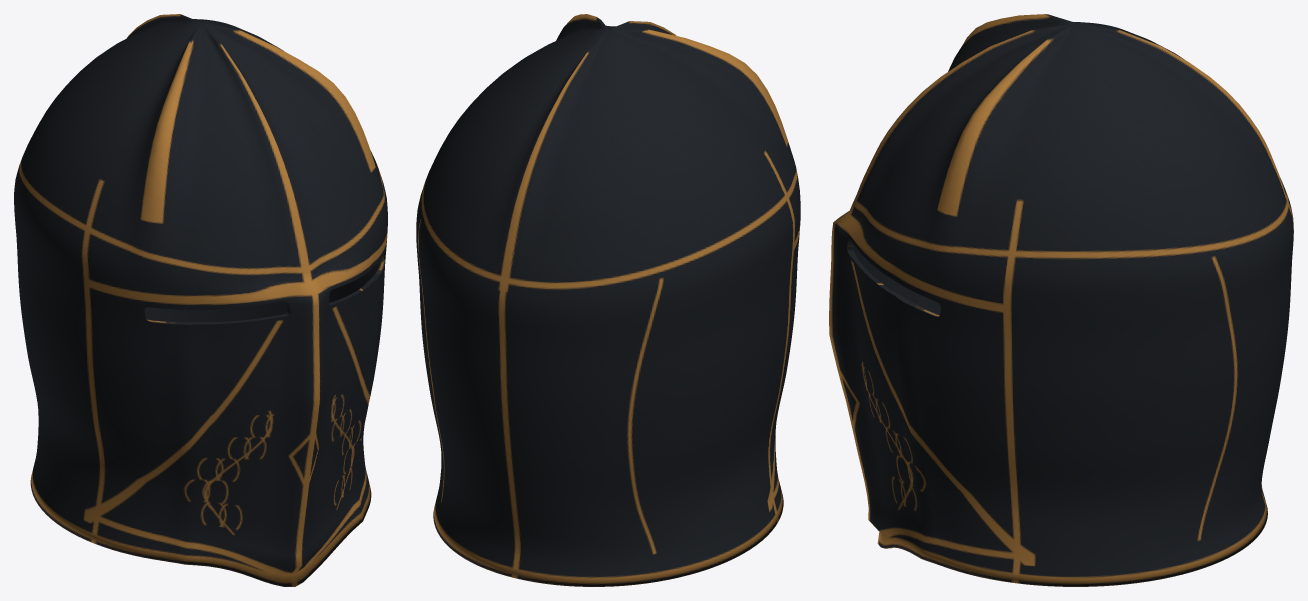
File: Obsidian_Sovereign_Helmet_preview_2K.glb
3 renders of one model, left to right at view 1: azimuth 30°, elevation 25°; view 2: azimuth 150°, elevation 25°; view 3: azimuth 270°, elevation 25°, orthographic. The views are drawn at different scales.
Visible parts, largest first — view 1: SM_ObsidianSovereign_Helmet_LOD0; view 2: SM_ObsidianSovereign_Helmet_LOD0; view 3: SM_ObsidianSovereign_Helmet_LOD0.
Boxes of the visible parts, x1=… form: SM_ObsidianSovereign_Helmet_LOD0: x1=14, y1=14, x2=387, y2=586; SM_ObsidianSovereign_Helmet_LOD0: x1=416, y1=14, x2=800, y2=586; SM_ObsidianSovereign_Helmet_LOD0: x1=829, y1=14, x2=1293, y2=586.
Bounding box in the file's own units: 0.2368 × 0.359 × 0.2904.
Materials: 1 (1 with a texture image).
